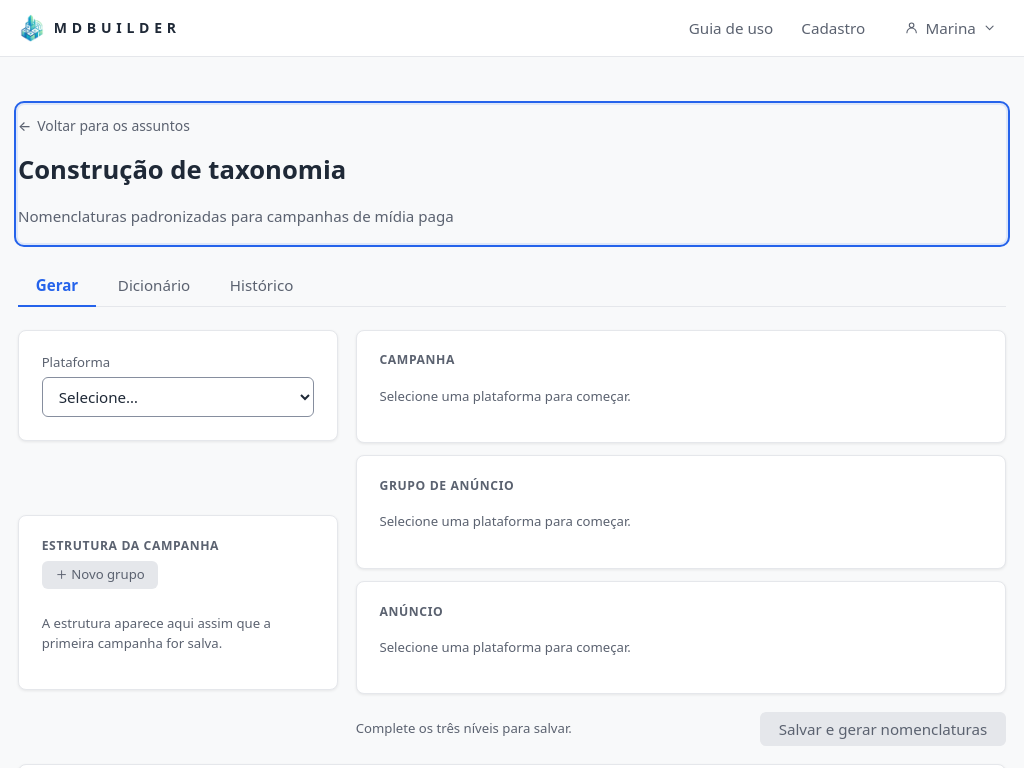
sessão expirada no meio de um formulário › não reexecuta nenhuma mutação depois do relogin
Select "Meta (METAA)" in the dropdown labelled "Plataforma": (178, 397) [42,377,314,417]
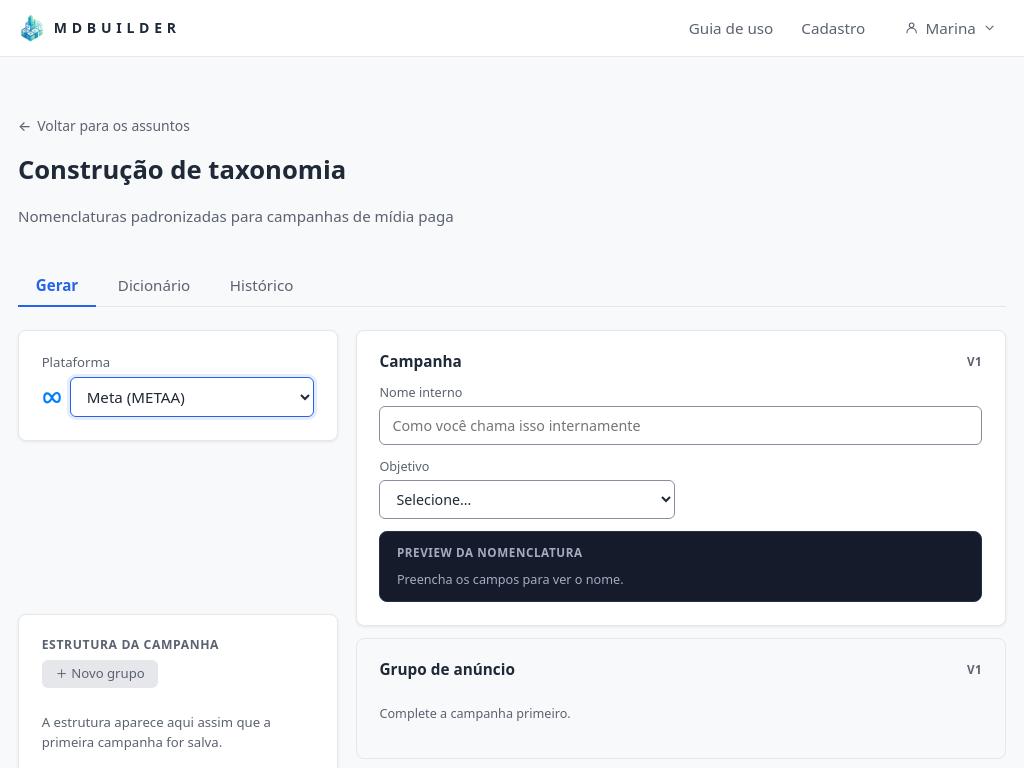
In the field labelled "Nome interno": (681, 426) [380,406,982,445], type "Black Friday 2026"
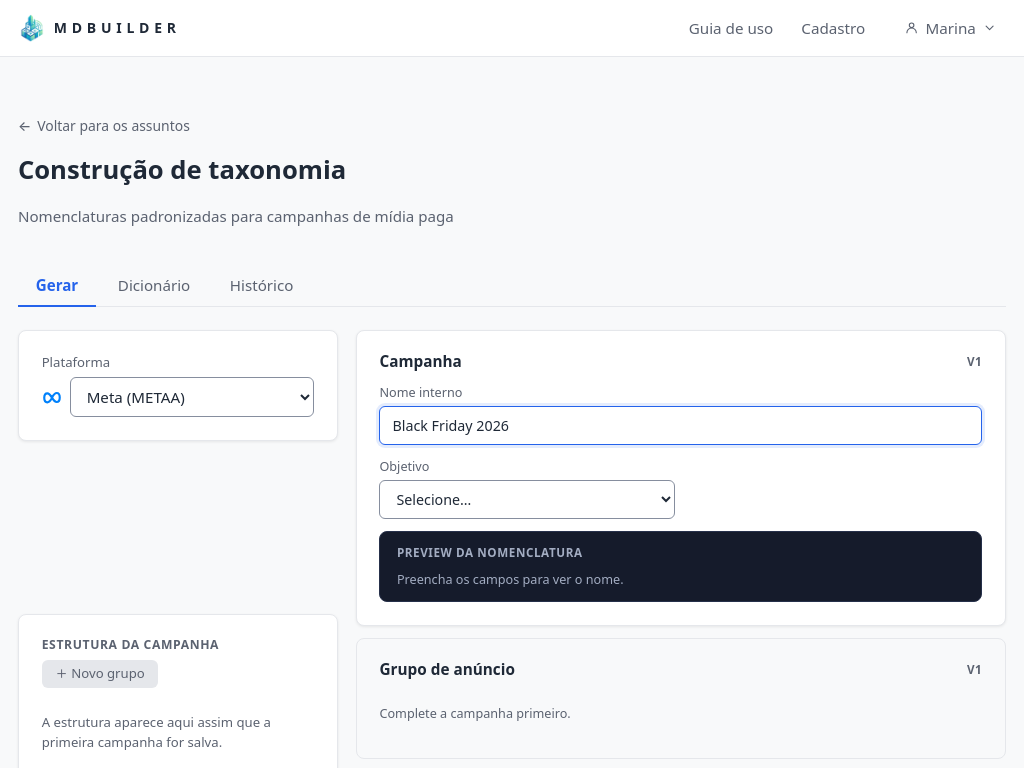
Select "Conversão → CV" in the dropdown labelled "Objetivo": (527, 500) [380,480,675,519]
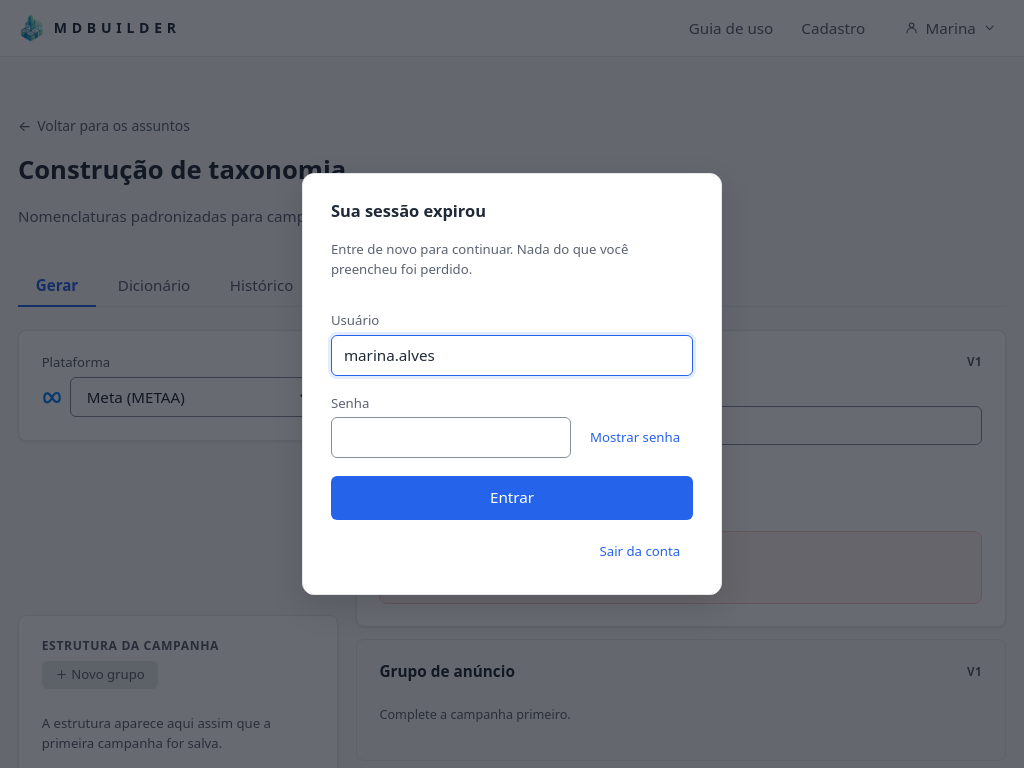
In the password field labelled "Senha": (451, 438) [331,417,571,458], type "segredo"
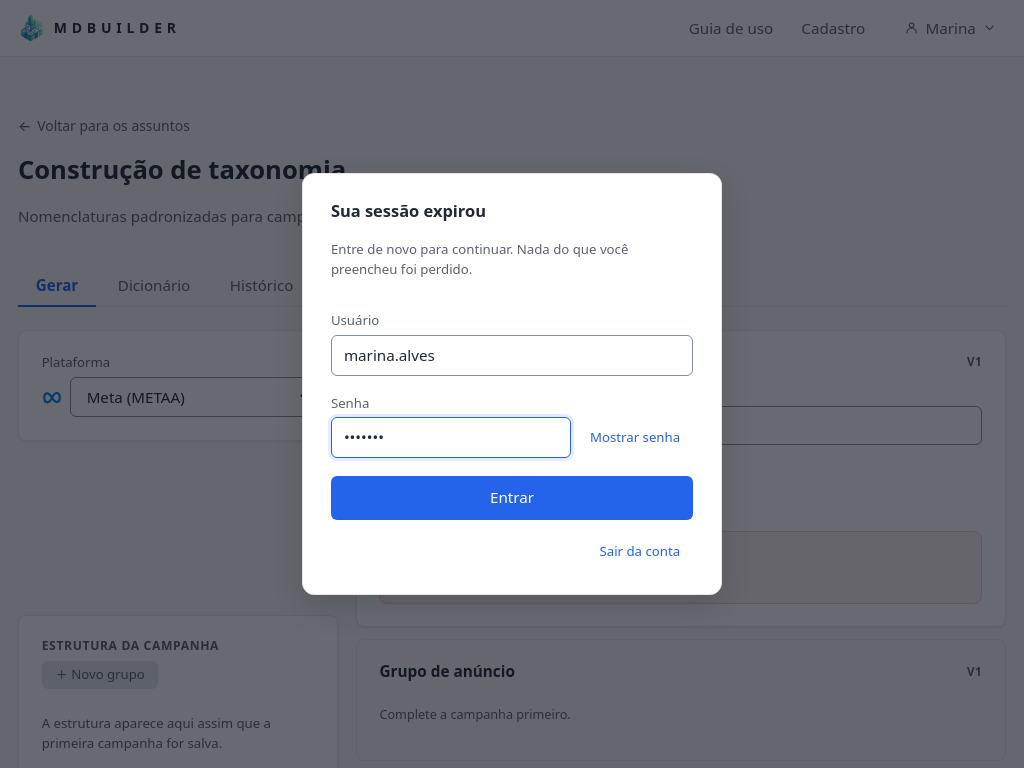
Click the button "Entrar": (512, 498) [331,476,693,520]
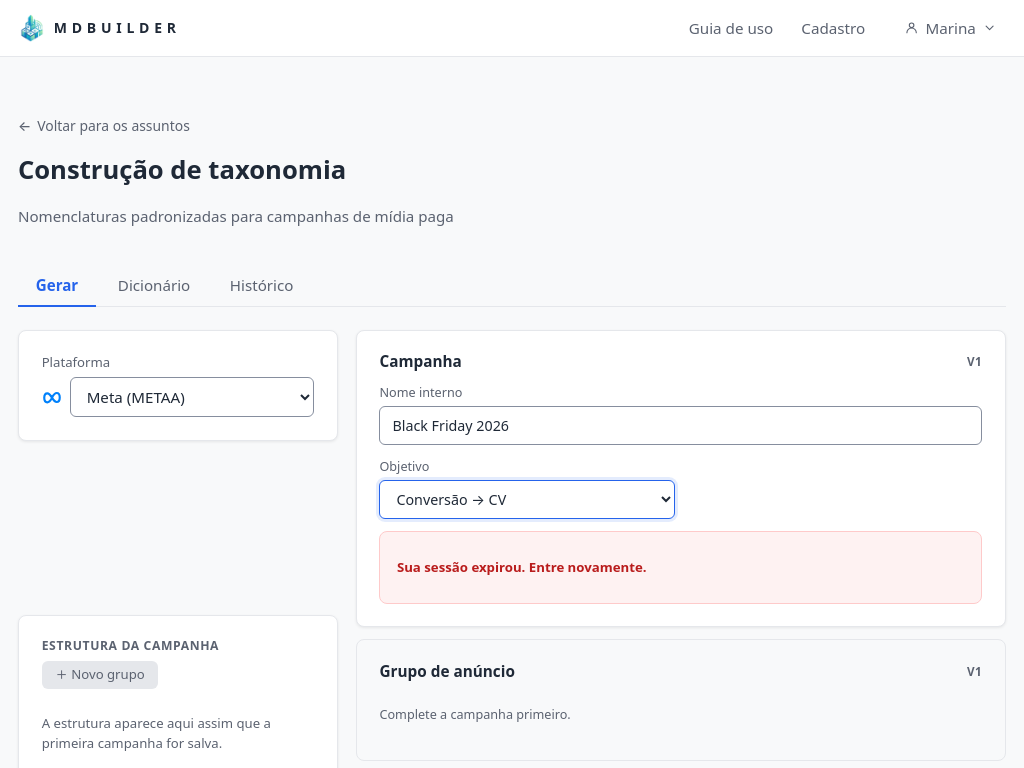
Now the dialog is gone
